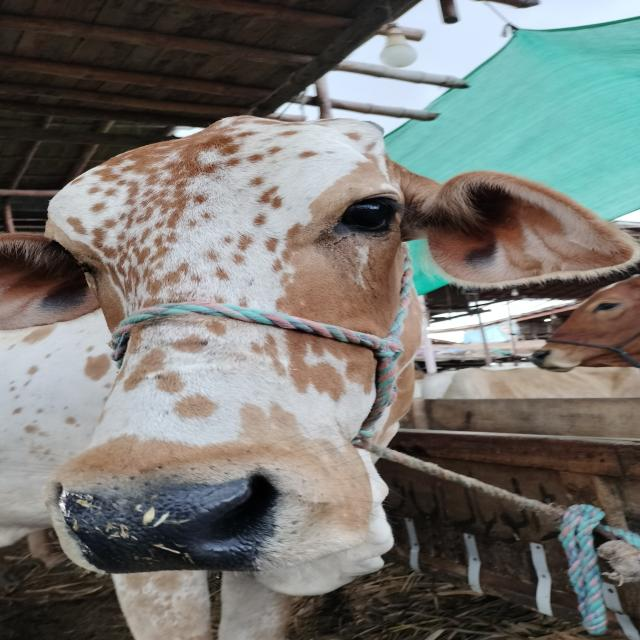muzzles: (38, 464, 292, 578)
